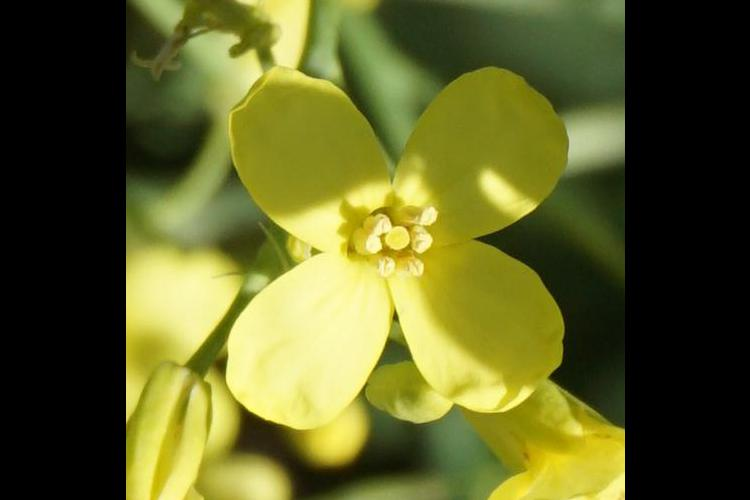yellow: (224, 63, 568, 429), (455, 407, 618, 500), (127, 439, 304, 500)
